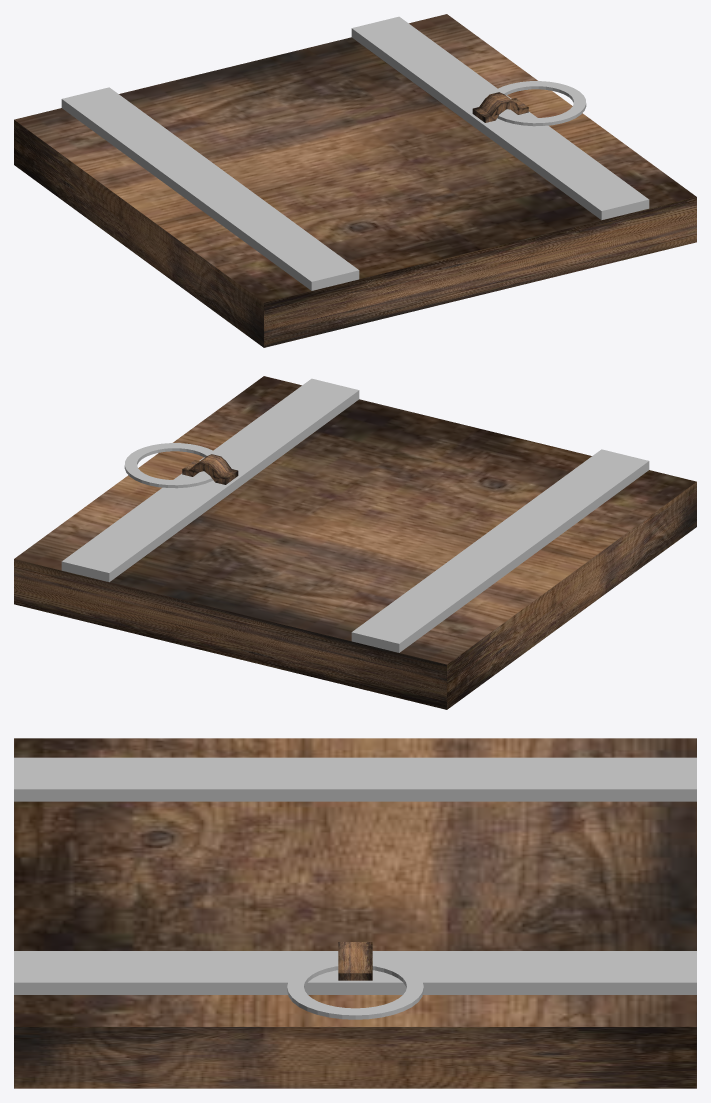
Rendered from trap_door.fbx.
3 renders of one model, top to bottom at view 1: azimuth 30°, elevation 25°; view 2: azimuth 150°, elevation 25°; view 3: azimuth 270°, elevation 25°, orthographic. The views are drawn at different scales.
Parts seen in each view (by area): view 1: Door, Circle, Cube; view 2: Door, Circle, Cube; view 3: Door, Circle, Cube.
Part boxes in pixels (x1=…): Door: x1=14, y1=14, x2=696, y2=347; Circle: x1=490, y1=81, x2=586, y2=126; Cube: x1=472, y1=92, x2=528, y2=122; Door: x1=14, y1=376, x2=696, y2=709; Circle: x1=124, y1=443, x2=220, y2=488; Cube: x1=182, y1=454, x2=238, y2=484; Door: x1=14, y1=738, x2=696, y2=1088; Circle: x1=287, y1=959, x2=423, y2=1019; Cube: x1=338, y1=942, x2=372, y2=980.
Size of the model in its own units: 40.71 by 6.21 by 40.
